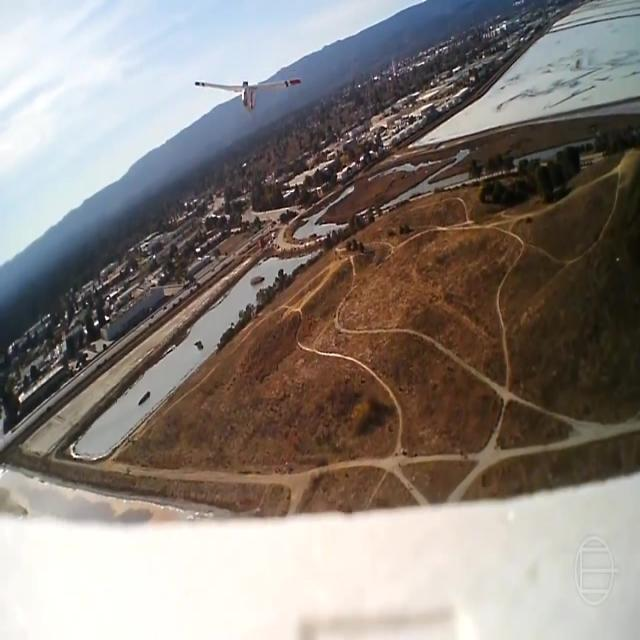iha: (226, 13, 270, 48)
